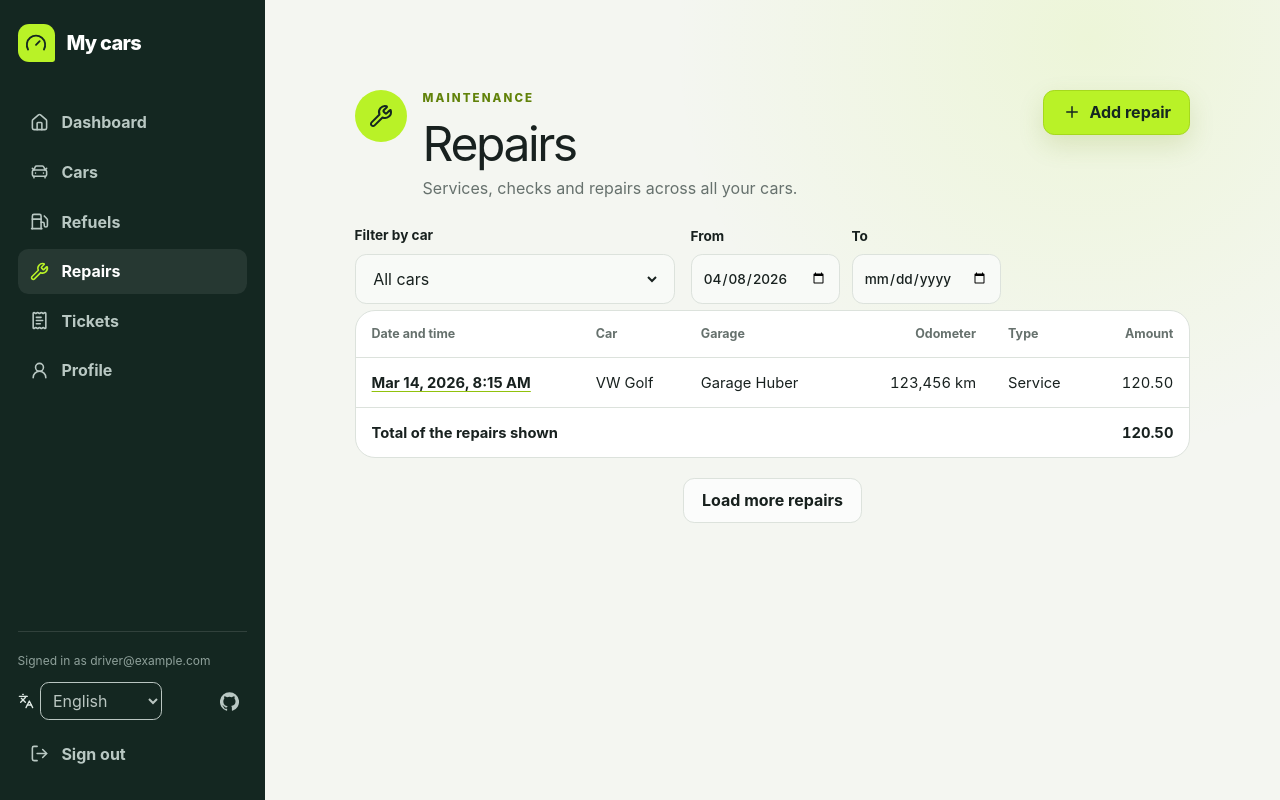
Test: repairs list › appends a further page and includes it in the total
Check: the text "Garage Huber" is shown, box left=685, top=358, right=854, bottom=408
Check: the row "Total of the repairs shown 120.50" is shown, box left=356, top=408, right=1189, bottom=458
Click the button "Load more repairs". click: (772, 500)
box: left=683, top=478, right=862, bottom=523
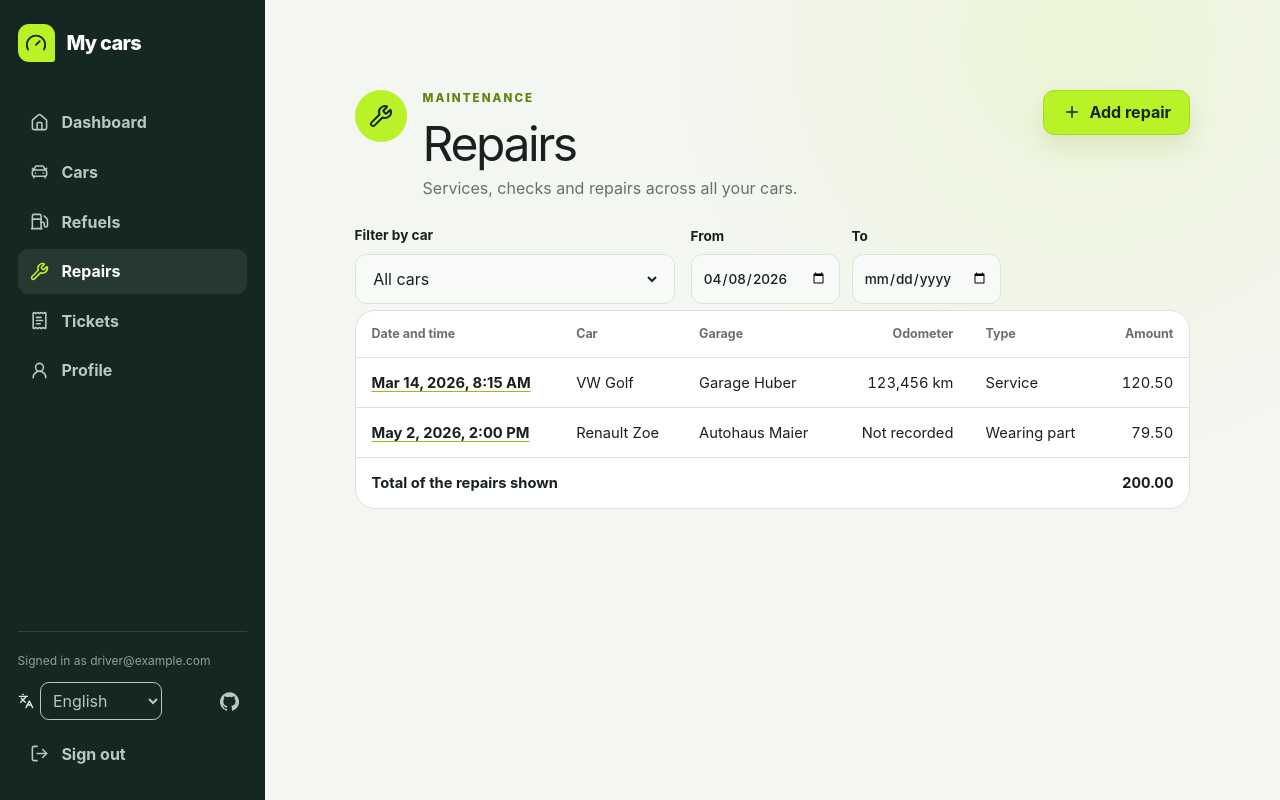
Check: the text "Autohaus Maier" is shown, box left=683, top=408, right=837, bottom=458
Check: the row "Total of the repairs shown 200.00" is shown, box left=356, top=458, right=1189, bottom=508
Check: the button "Load more repairs" is gone
